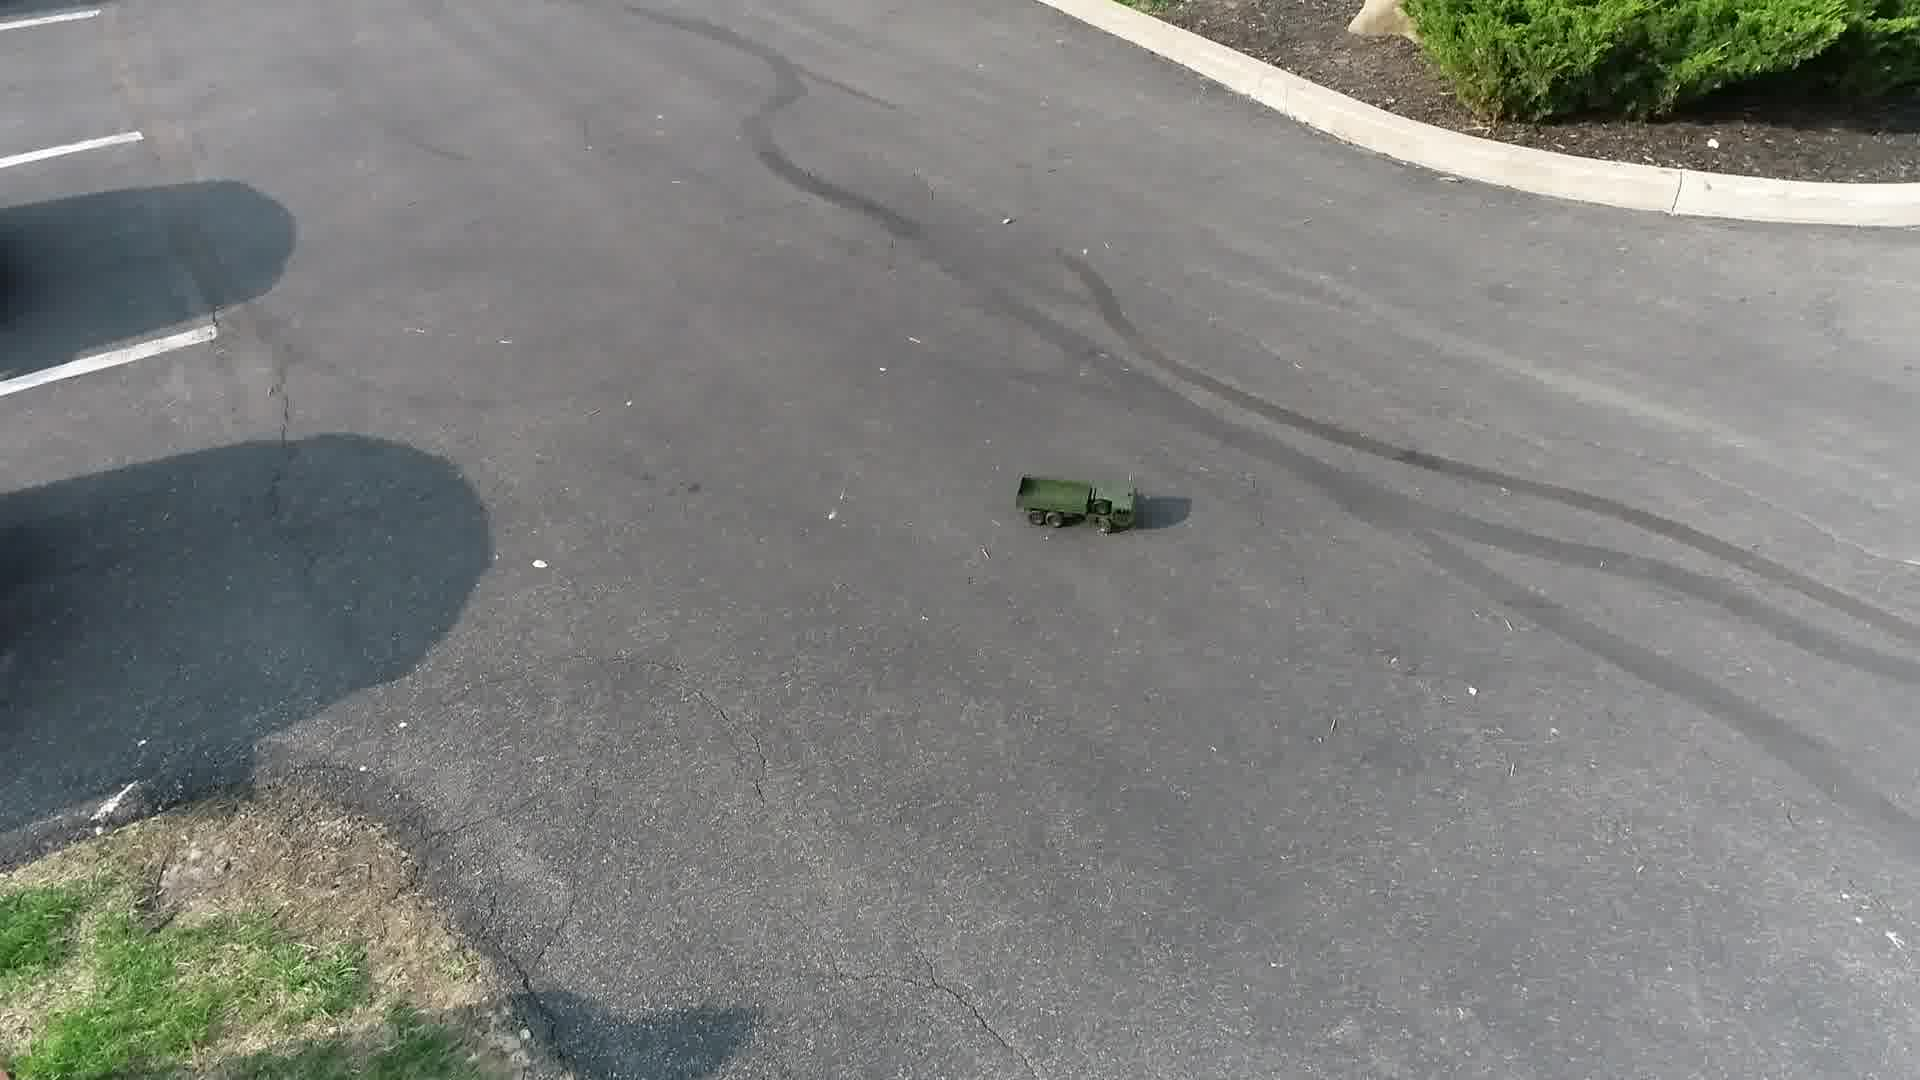transporter9: (1007, 469, 1150, 535)
